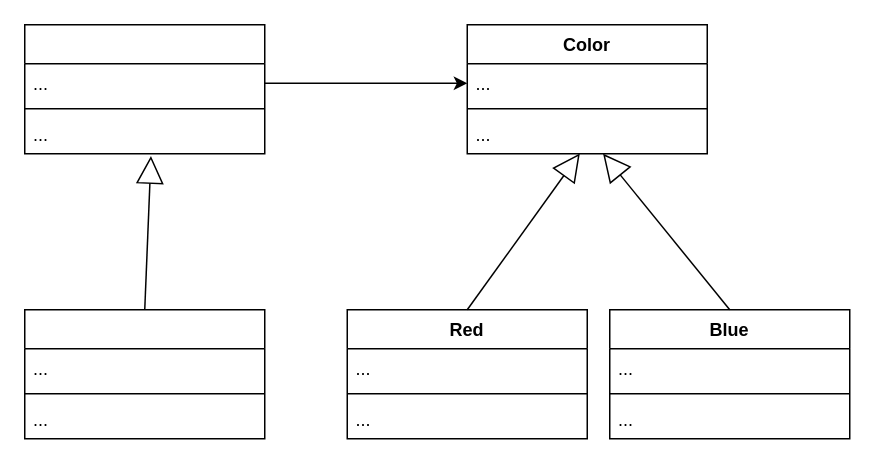
Image size: 875x464. Some labels were removed from this diagram. Each missing label, with the box of its shape:
Circle: (23, 308, 265, 439)
Shape: (23, 23, 265, 154)
